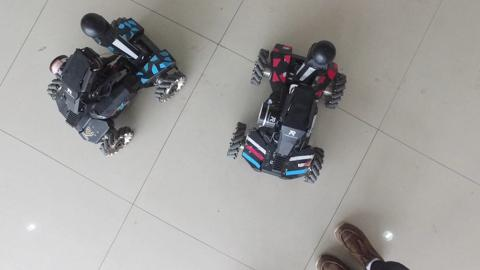chariot: (37, 9, 188, 160), (224, 27, 351, 193)
